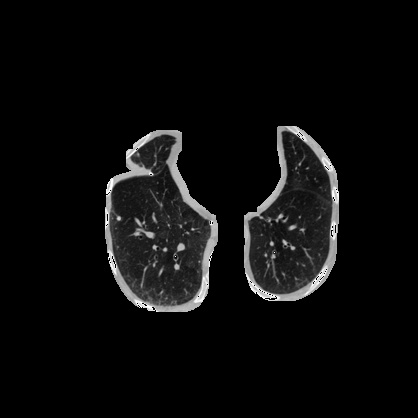PN: (116, 216, 120, 220)
